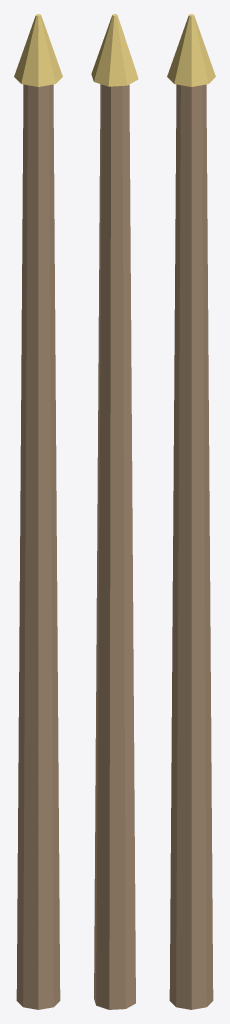
3 views of the same model, side by side, from view 1: azimuth 90°, elevation 25°; view 2: azimuth 210°, elevation 25°; view 3: azimuth 270°, elevation 25° (orthographic).
Parts seen in each view (by area): view 1: WB_larchPole; view 2: WB_larchPole; view 3: WB_larchPole.
Part boxes in pixels (x1,y1,x2,y2): WB_larchPole: (14,14,62,1009); WB_larchPole: (91,14,138,1009); WB_larchPole: (167,14,215,1009).
Bounding box in the file's own units: 0.36 × 8 × 0.36.
